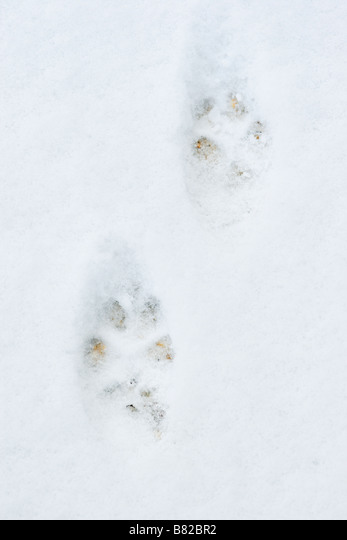fox: (84, 277, 183, 427), (183, 91, 273, 211)
